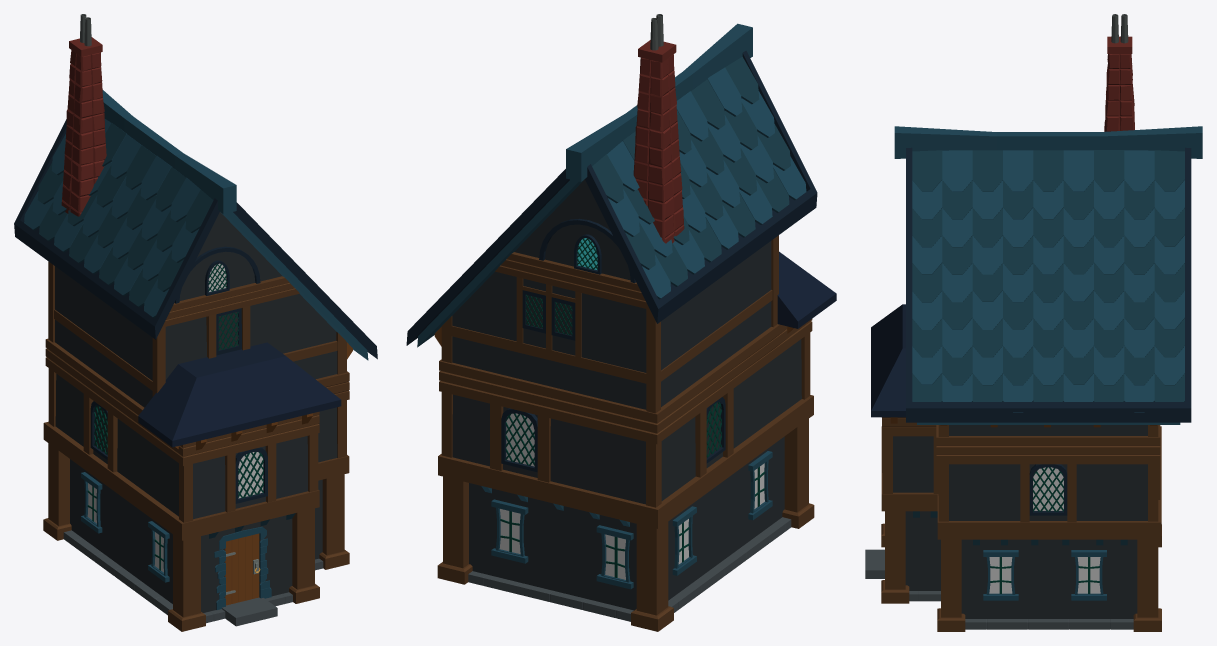
The model's file is SM_Hous_10_B.gltf.
The picture shows the model from 3 angles, left to right: view 1: azimuth 30°, elevation 25°; view 2: azimuth 150°, elevation 25°; view 3: azimuth 270°, elevation 25°; orthographic projection. The views are drawn at different scales.
Parts seen in each view (by area): view 1: SM_Hous_10_B; view 2: SM_Hous_10_B; view 3: SM_Hous_10_B.
Part boxes in pixels (box(x1,y1,x2,y2)): SM_Hous_10_B: box(14, 14, 377, 631); SM_Hous_10_B: box(406, 14, 836, 631); SM_Hous_10_B: box(865, 14, 1202, 631).
Bounding box in the file's own units: 7.11 × 15.96 × 9.19.
